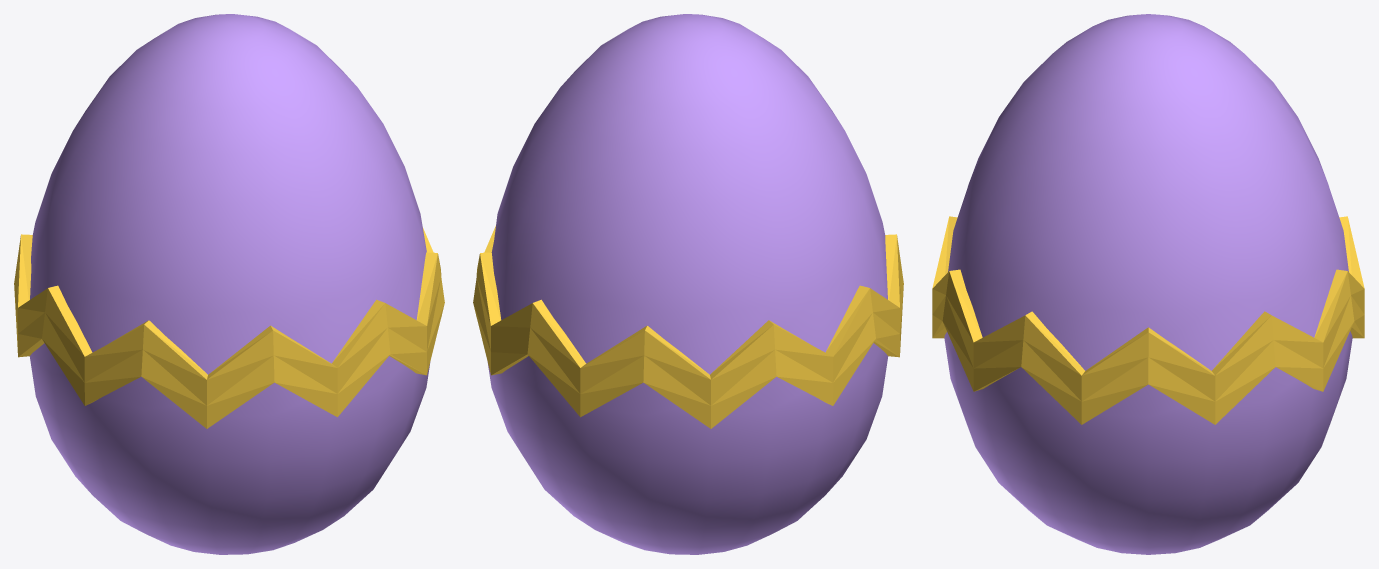
Rendered from oeuf_or.fbx.
3 views of the same model, side by side, from view 1: azimuth 30°, elevation 25°; view 2: azimuth 150°, elevation 25°; view 3: azimuth 270°, elevation 25° (orthographic).
Parts seen in each view (by area): view 1: oeuf_or_Haut, oeuf_or_Bas, oeuf_or_Bande_Haut, oeuf_or_Bande_Bas; view 2: oeuf_or_Haut, oeuf_or_Bas, oeuf_or_Bande_Haut, oeuf_or_Bande_Bas; view 3: oeuf_or_Haut, oeuf_or_Bas, oeuf_or_Bande_Haut, oeuf_or_Bande_Bas.
Boxes of the visible parts, x1,y1,x2,y2 form: oeuf_or_Haut: (30,14,426,374); oeuf_or_Bas: (29,343,430,554); oeuf_or_Bande_Haut: (17,227,441,405); oeuf_or_Bande_Bas: (14,259,444,428); oeuf_or_Haut: (491,14,887,374); oeuf_or_Bas: (487,343,888,554); oeuf_or_Bande_Haut: (476,226,900,405); oeuf_or_Bande_Bas: (473,259,903,428); oeuf_or_Haut: (948,14,1348,370); oeuf_or_Bas: (944,331,1352,554); oeuf_or_Bande_Haut: (932,216,1364,401); oeuf_or_Bande_Bas: (932,295,1364,424).
Size of the model in its own units: 1.91 by 2.5 by 1.91.
